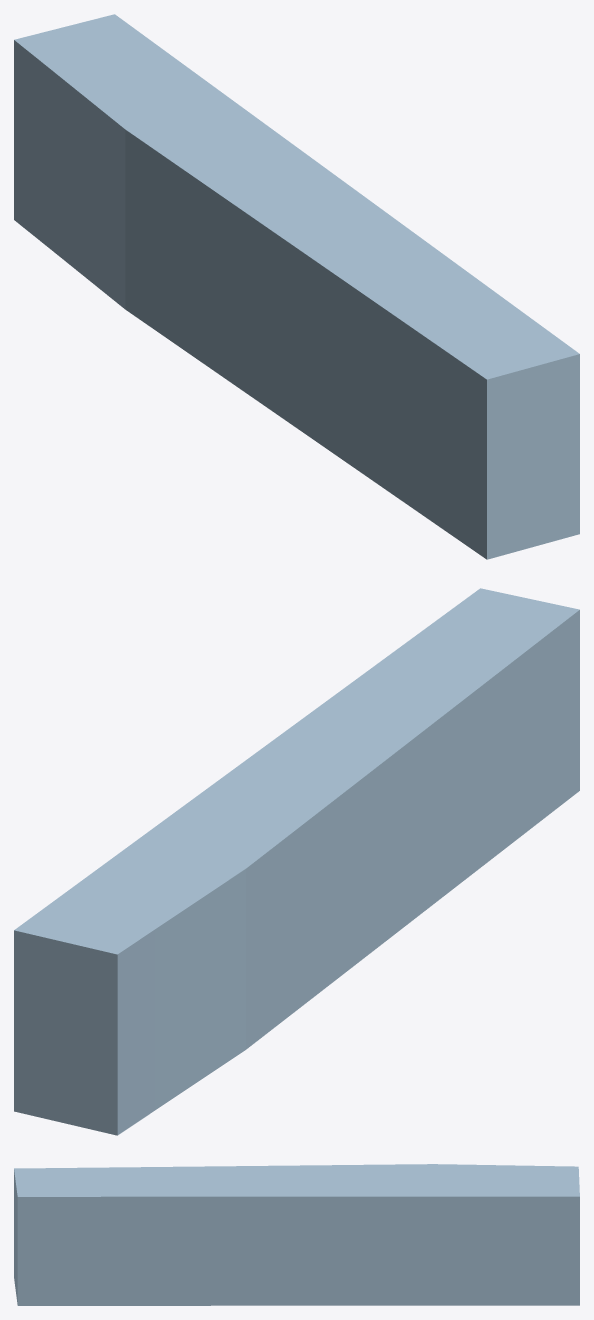
File: osm_way_224990427.glb
3 renders of one model, top to bottom at view 1: azimuth 30°, elevation 25°; view 2: azimuth 150°, elevation 25°; view 3: azimuth 270°, elevation 25°, orthographic. The views are drawn at different scales.
Visible parts, largest first — view 1: osm_way_224990427; view 2: osm_way_224990427; view 3: osm_way_224990427.
Boxes of the visible parts, left/top/right/bottom form: osm_way_224990427: left=14, top=14, right=579, bottom=559; osm_way_224990427: left=14, top=588, right=579, bottom=1135; osm_way_224990427: left=14, top=1164, right=579, bottom=1305.
Size of the model in its own units: 4.51 by 7 by 32.93.
